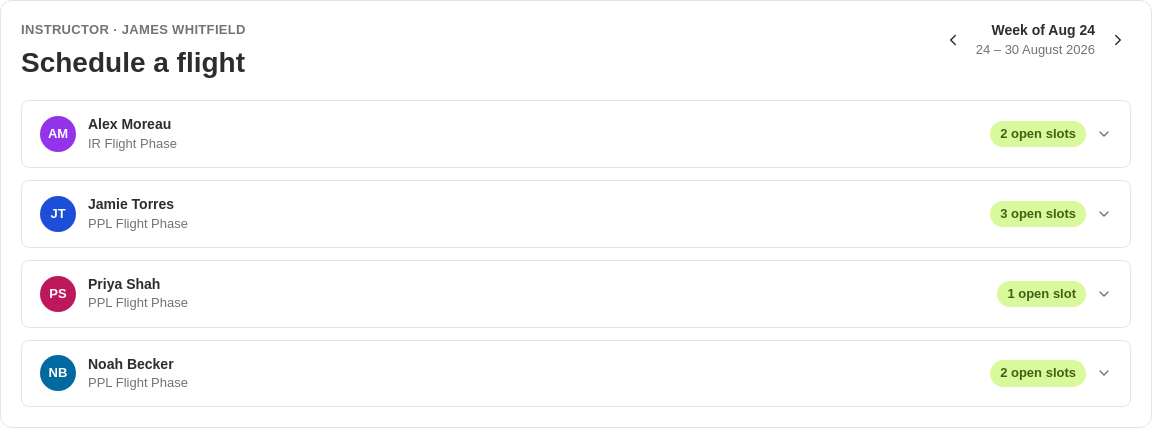
Scenario: InstructorScheduleView › moves to the next and previous week when the nav buttons are clicked
Click the button named "Next week" at (1118, 40), box [1105, 27, 1131, 53]
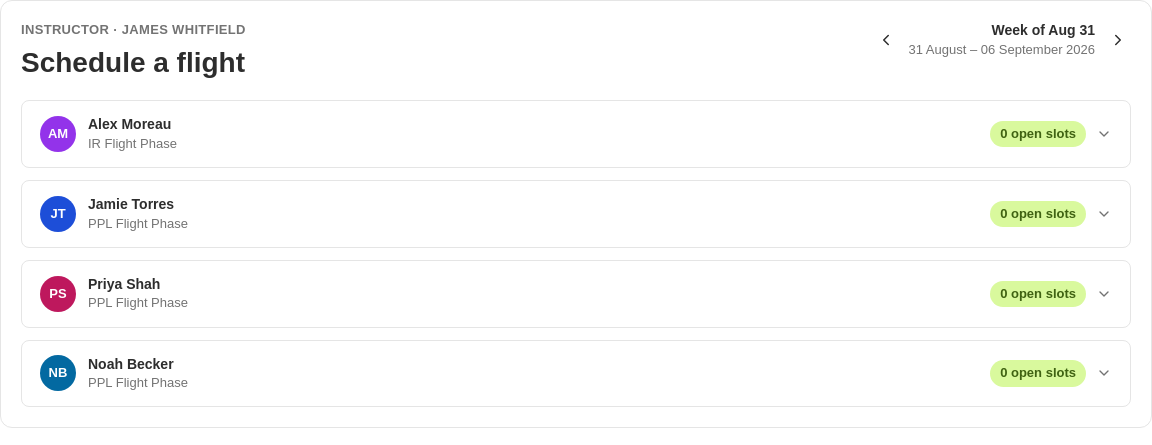
Expected: the text "Week of Aug 31" is shown, [992, 22, 1095, 38]
Click the button named "Previous week" at (886, 40), box [872, 27, 898, 53]
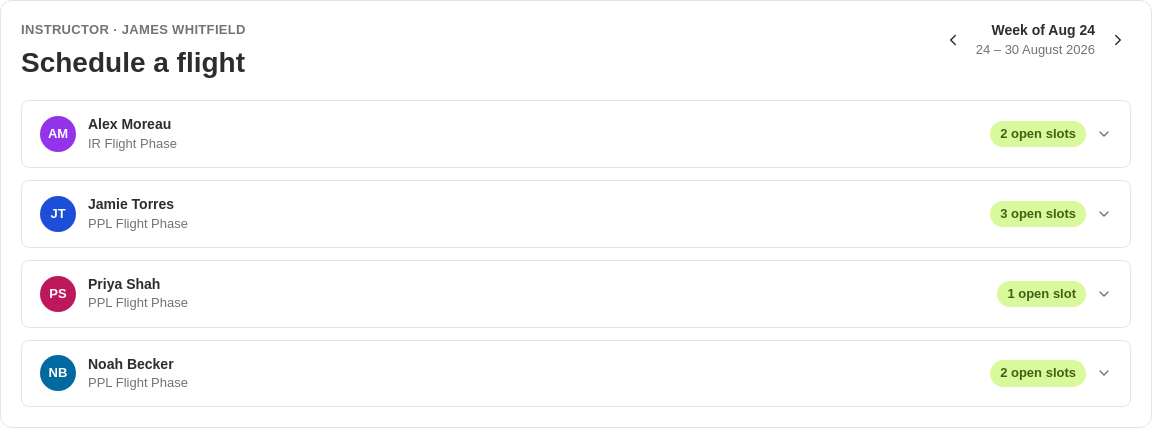
Click the button named "Previous week" at (953, 40), box [940, 27, 966, 53]
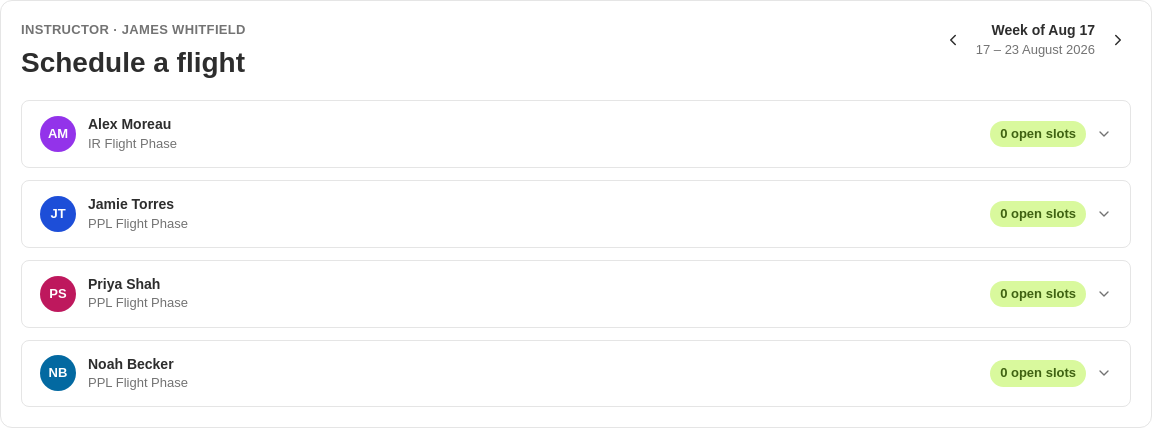
Expected: the text "Week of Aug 17" is shown, [976, 21, 1095, 41]
